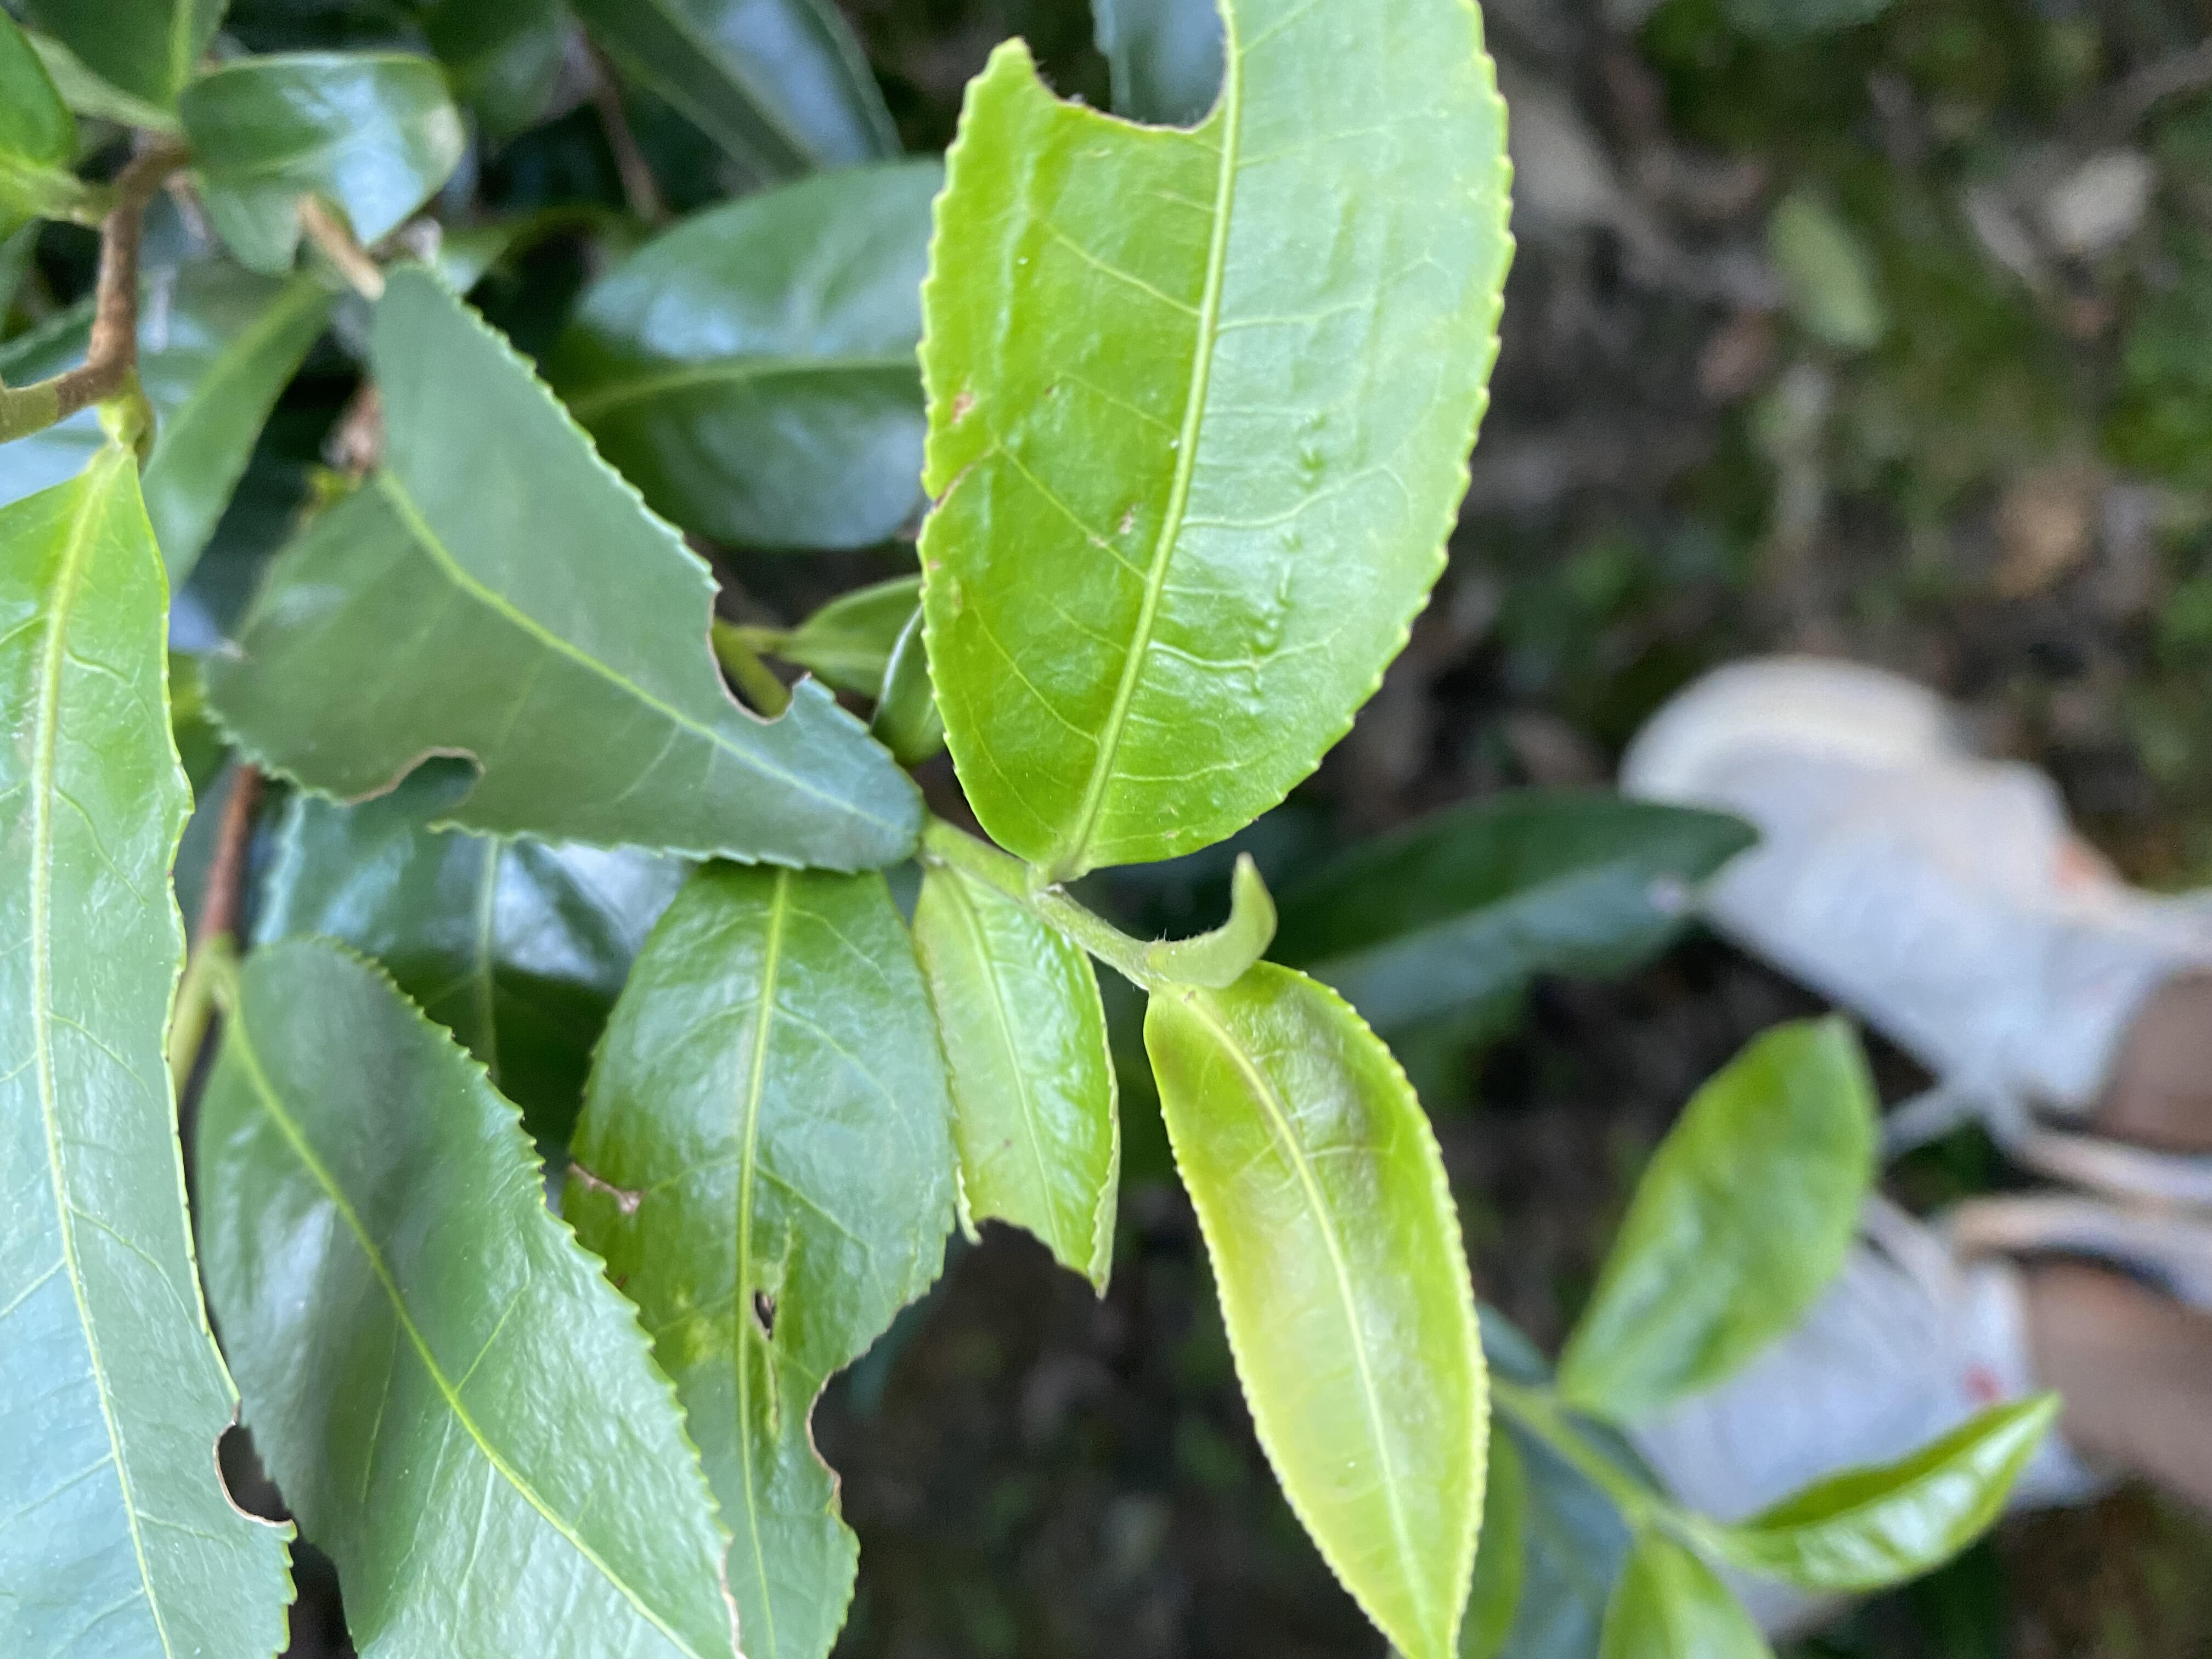chihuo_high: (195, 263, 925, 875), (556, 864, 958, 1657)
chihuo_low: (914, 2, 1521, 880), (3, 460, 300, 1656), (911, 875, 1130, 1298)
healthy: (1143, 958, 1491, 1657)
